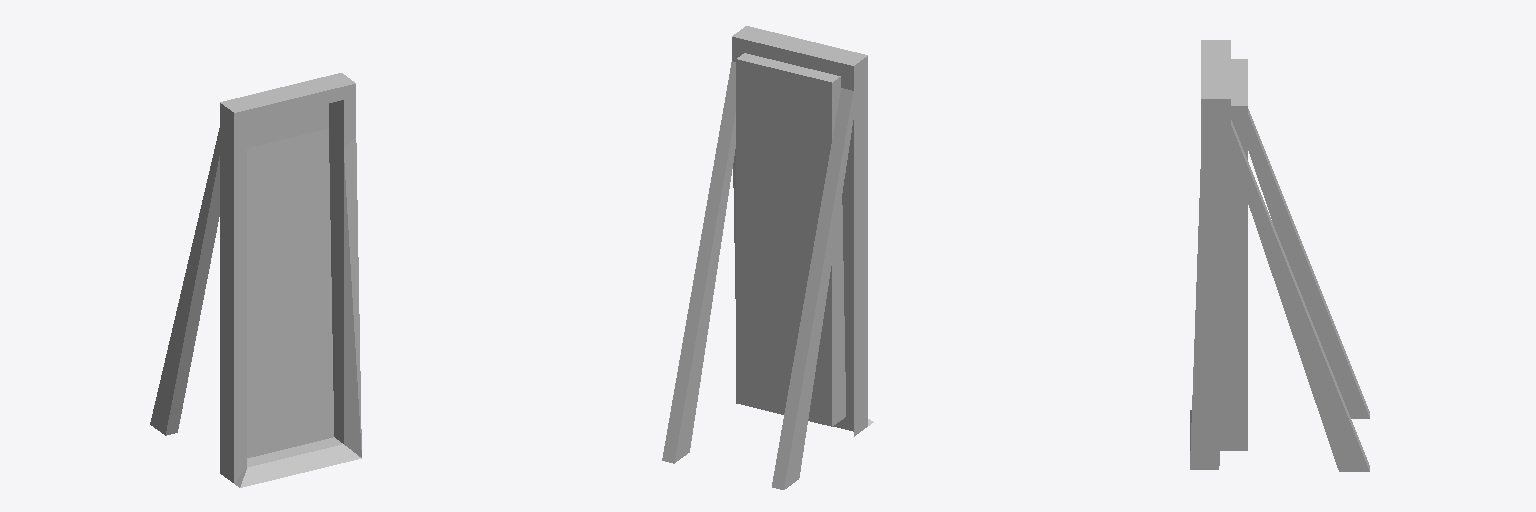
File: mirror_stand.obj
3 renders of one model, left to right at view 1: azimuth 30°, elevation 25°; view 2: azimuth 150°, elevation 25°; view 3: azimuth 270°, elevation 25°, orthographic.
Parts seen in each view (by area): view 1: Cube; view 2: Cube; view 3: Cube.
Boxes of the visible parts, x1=… form: Cube: x1=150, y1=73, x2=361, y2=487; Cube: x1=662, y1=26, x2=873, y2=489; Cube: x1=1190, y1=40, x2=1369, y2=471.
Bounding box in the file's own units: 2.13 × 6.22 × 2.73.